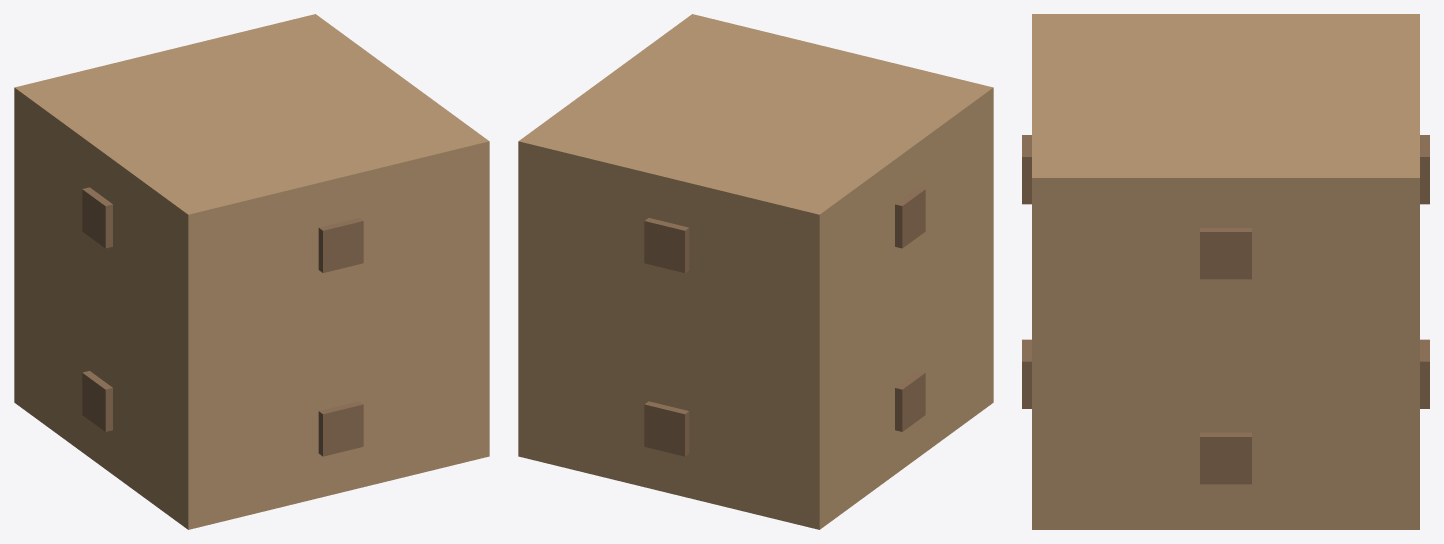
The model's file is PROP-crate-01.glb.
The picture shows the model from 3 angles, left to right: view 1: azimuth 30°, elevation 25°; view 2: azimuth 150°, elevation 25°; view 3: azimuth 270°, elevation 25°; orthographic projection. The views are drawn at different scales.
Parts seen in each view (by area): view 1: PROP-crate-01; view 2: PROP-crate-01; view 3: PROP-crate-01.
Part boxes in pixels (x1,y1,x2,y2): PROP-crate-01: [14, 14, 489, 529]; PROP-crate-01: [518, 14, 993, 529]; PROP-crate-01: [1022, 14, 1429, 529].
Size of the model in its own units: 0.7035 by 0.67 by 0.7035.
